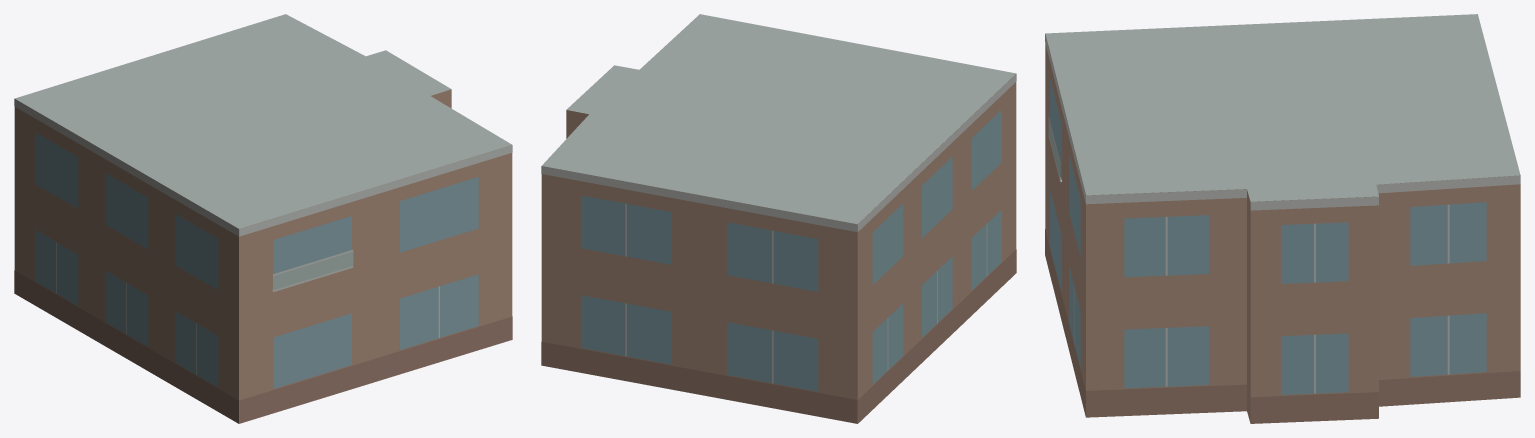
Rendered from survey-upis-32537410.glb.
3 renders of one model, left to right at view 1: azimuth 30°, elevation 25°; view 2: azimuth 150°, elevation 25°; view 3: azimuth 270°, elevation 25°, orthographic. The views are drawn at different scales.
Visible parts, largest first — view 1: survey-upis-32537410.tmp; view 2: survey-upis-32537410.tmp; view 3: survey-upis-32537410.tmp.
Part boxes in pixels (x1,y1,x2,y2): survey-upis-32537410.tmp: (14,14,512,423); survey-upis-32537410.tmp: (541,14,1016,423); survey-upis-32537410.tmp: (1045,14,1520,423).
Size of the model in its own units: 11.06 by 6.1 by 11.84.
